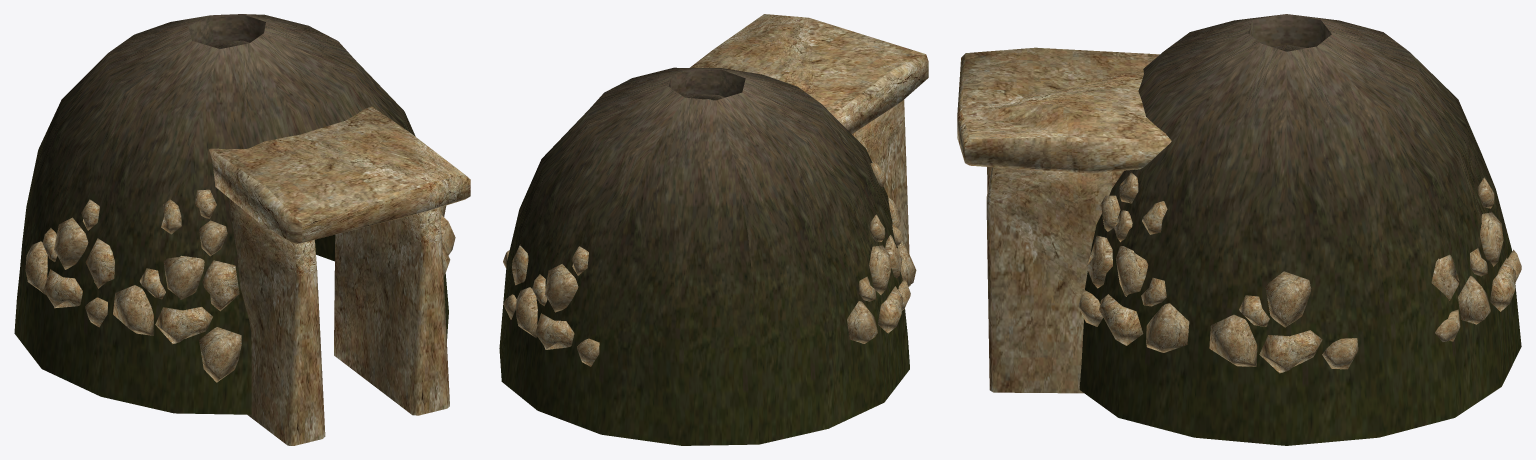
The model's file is thm_dant_small_mudhut_l1.fbx.
3 renders of one model, left to right at view 1: azimuth 30°, elevation 25°; view 2: azimuth 150°, elevation 25°; view 3: azimuth 270°, elevation 25°, orthographic. The views are drawn at different scales.
Parts seen in each view (by area): view 1: mesh_node; view 2: mesh_node; view 3: mesh_node.
Part boxes in pixels (left/top/right/bottom): mesh_node: left=14, top=14, right=470, bottom=445; mesh_node: left=499, top=14, right=928, bottom=445; mesh_node: left=957, top=14, right=1521, bottom=445.
Bounding box in the file's own units: 9.35 × 6.81 × 10.98.
